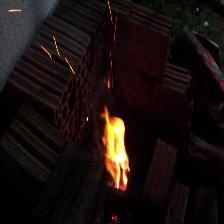fire: (81, 18, 147, 190)
